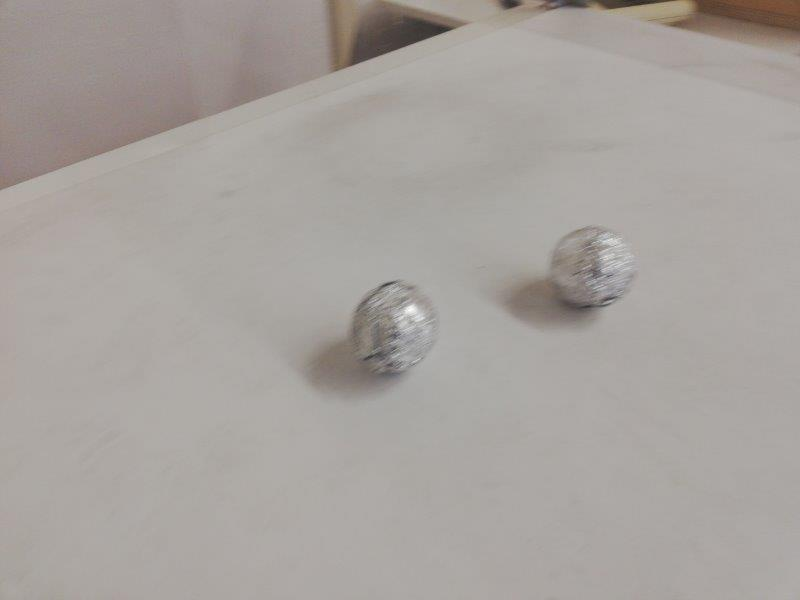bianca: (350, 280, 438, 374), (546, 225, 635, 309)
